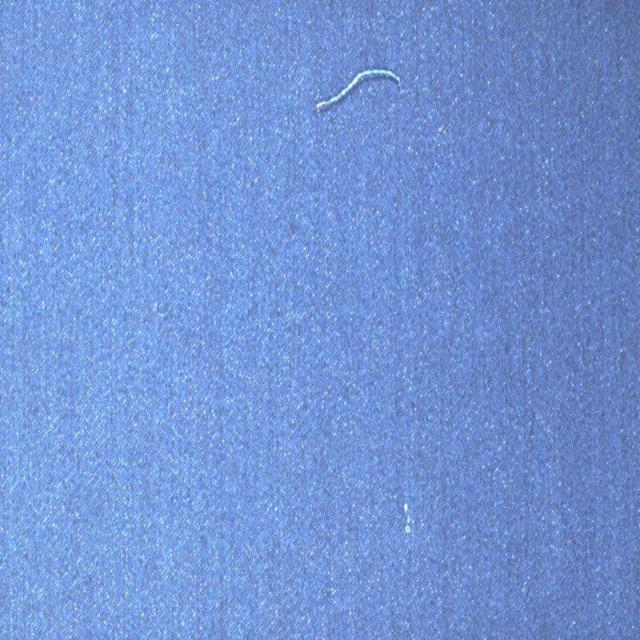Thread: (310, 63, 406, 118)
